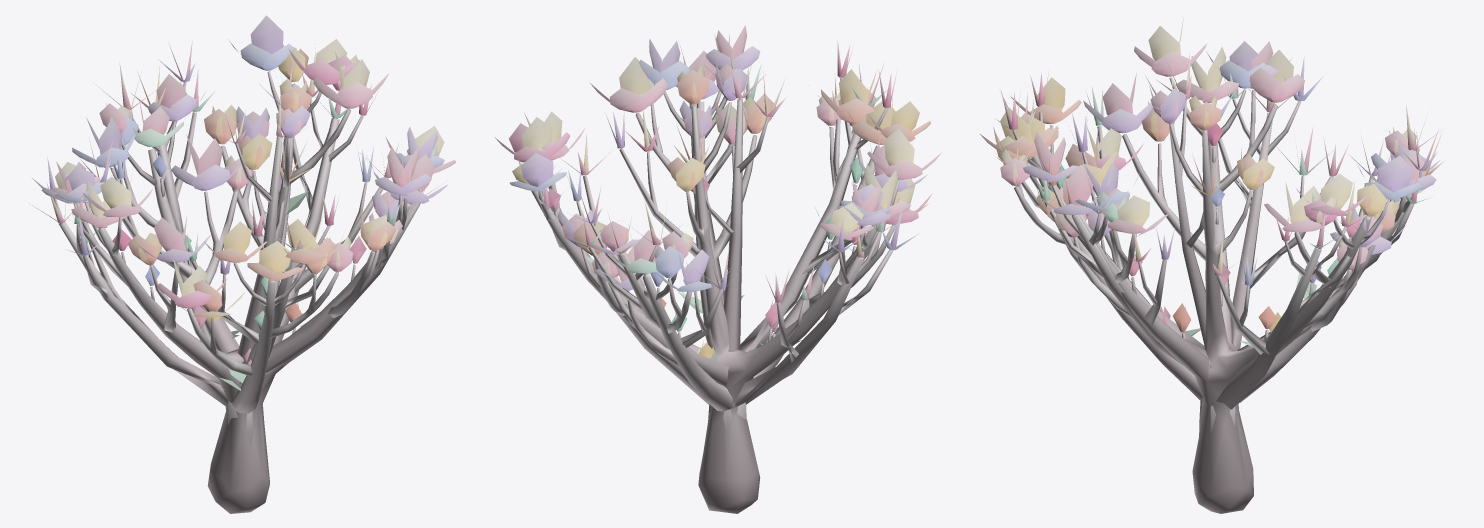
Rendered from magnolia_harlequin.glb.
The picture shows the model from 3 angles, left to right: view 1: azimuth 30°, elevation 25°; view 2: azimuth 150°, elevation 25°; view 3: azimuth 270°, elevation 25°; orthographic projection. The views are drawn at different scales.
Visible parts, largest first — view 1: near, far; view 2: near, far; view 3: near, far.
Part boxes in pixels (bbox=[...]): near: bbox=[41, 15, 455, 513]; far: bbox=[29, 40, 447, 447]; near: bbox=[495, 25, 941, 513]; far: bbox=[538, 33, 919, 431]; near: bbox=[980, 16, 1440, 513]; far: bbox=[994, 52, 1445, 435].
Size of the model in its own units: 5.35 by 5.93 by 5.84.
